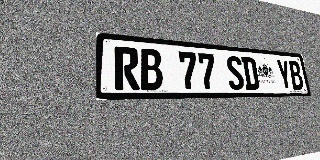7: (177, 51, 200, 90), (196, 53, 218, 90)
B: (139, 48, 164, 90), (288, 60, 304, 90)
D: (241, 57, 260, 90)
R: (114, 46, 140, 90)
S: (225, 55, 245, 90)
Y: (276, 59, 293, 90)
